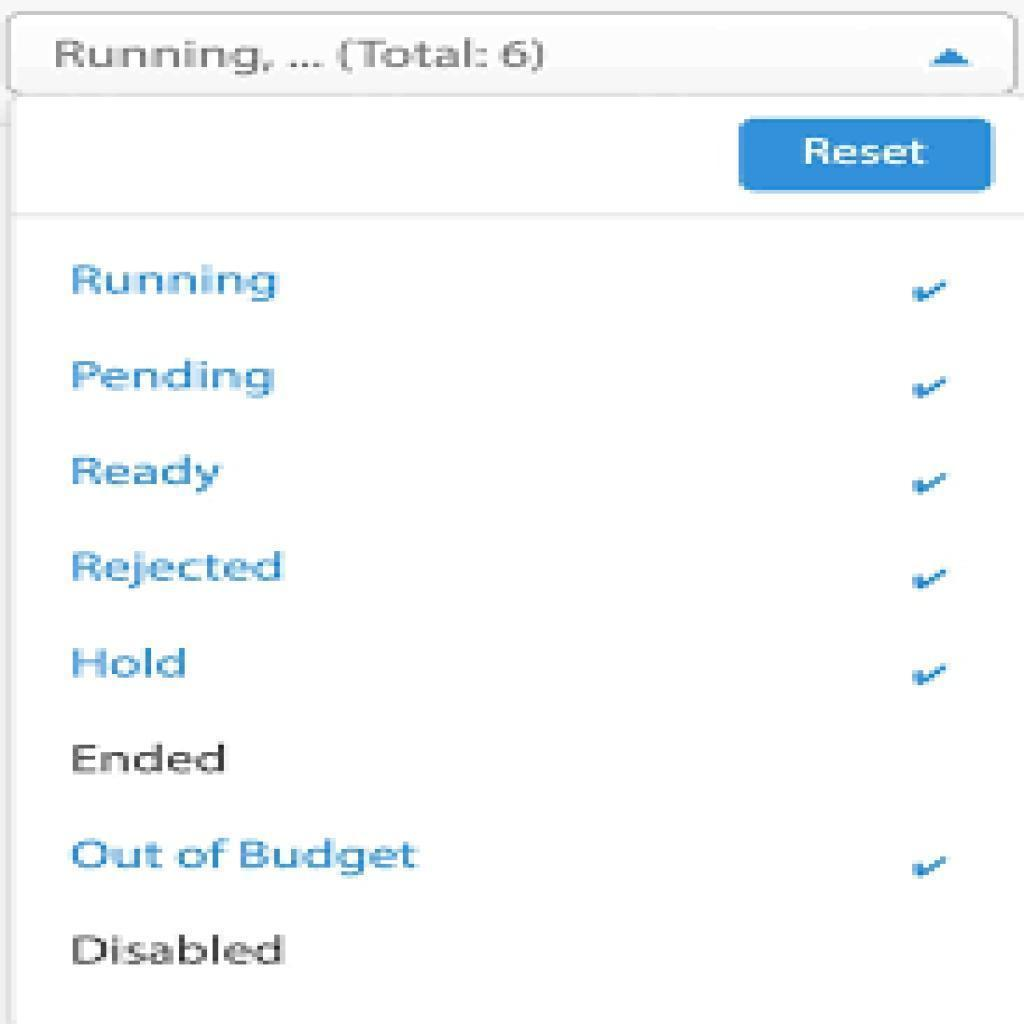button: (740, 118, 993, 189)
dropdown: (5, 10, 1020, 99)
